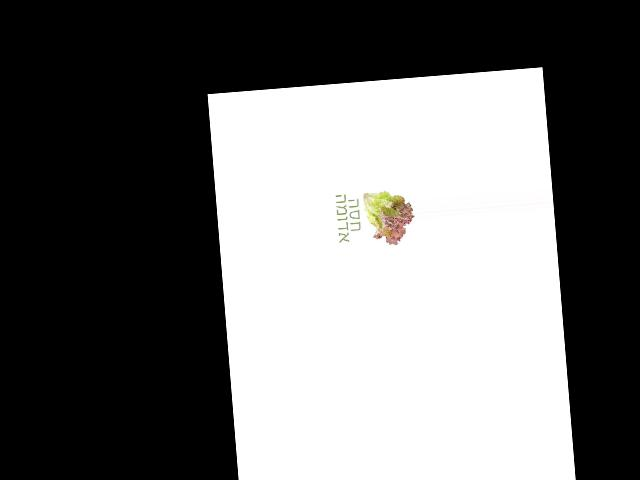lettuce: (360, 183, 416, 248)
